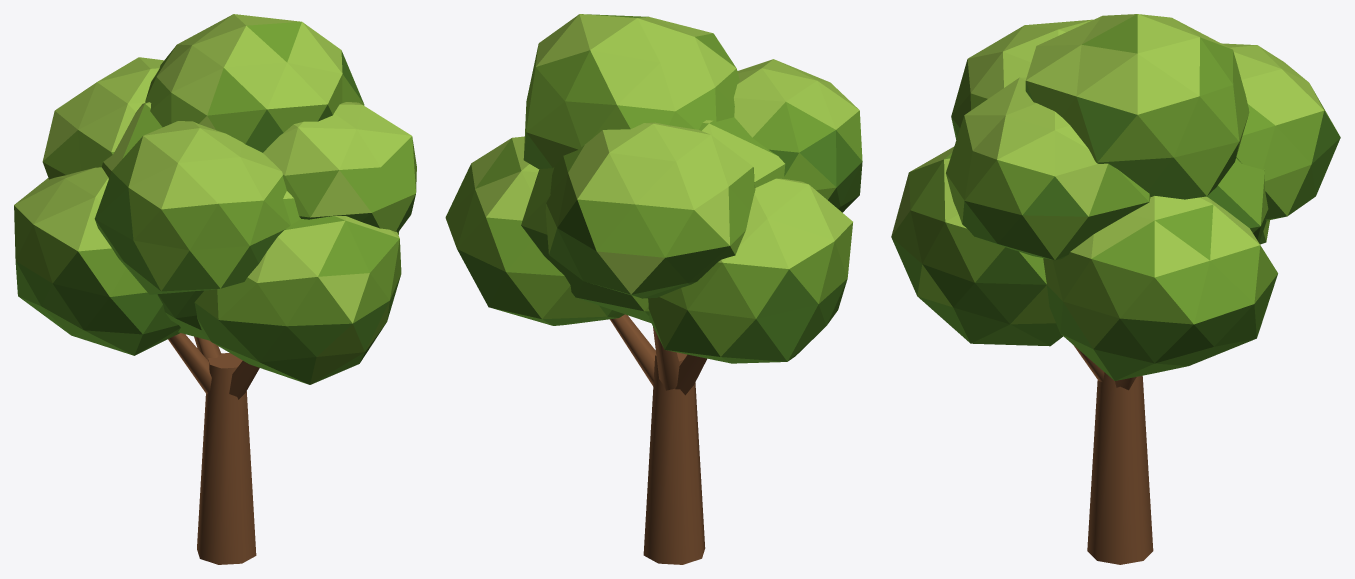
Rendered from tree_leafy_l.glb.
3 renders of one model, left to right at view 1: azimuth 30°, elevation 25°; view 2: azimuth 150°, elevation 25°; view 3: azimuth 270°, elevation 25°, orthographic. The views are drawn at different scales.
Parts seen in each view (by area): view 1: tree.leafy.l; view 2: tree.leafy.l; view 3: tree.leafy.l.
Boxes of the visible parts, box(x1,y1,x2,y2) form: tree.leafy.l: box(14, 14, 416, 564); tree.leafy.l: box(445, 14, 862, 564); tree.leafy.l: box(891, 14, 1340, 564).
Size of the model in its own units: 10.09 by 13.71 by 10.13.
